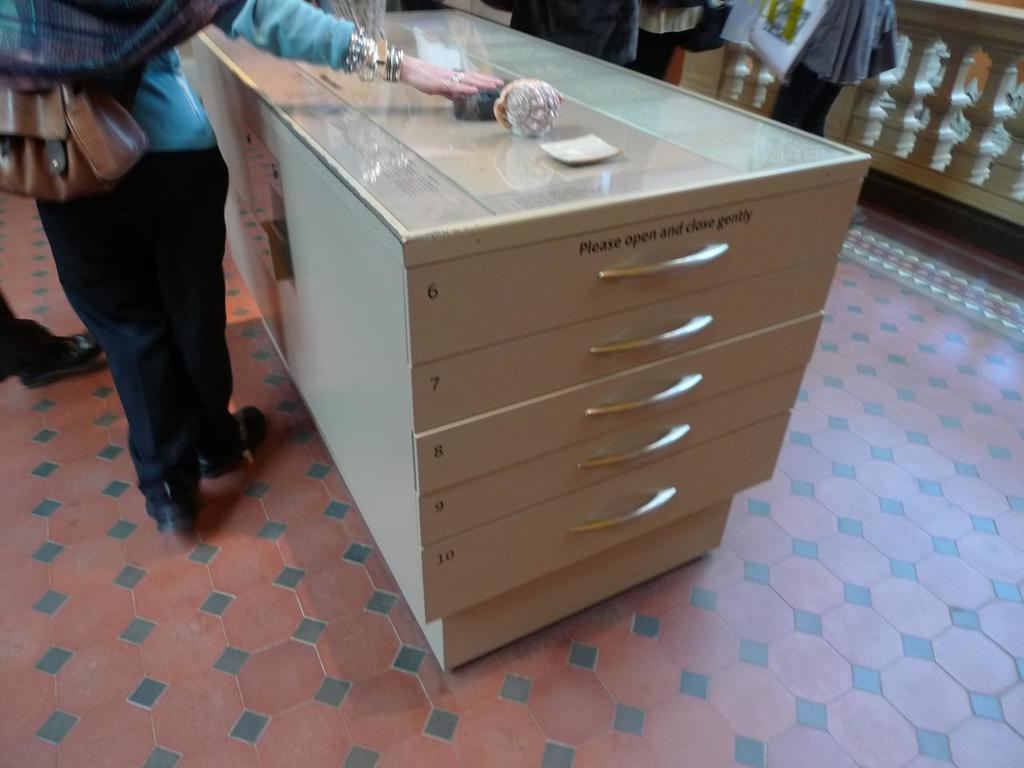cabinet door: (439, 193, 817, 279), (466, 353, 772, 426), (468, 293, 799, 356), (474, 487, 766, 553), (476, 435, 786, 485)
handle: (595, 244, 734, 279), (571, 429, 694, 465), (564, 493, 679, 530), (584, 323, 716, 351), (578, 385, 701, 413)
